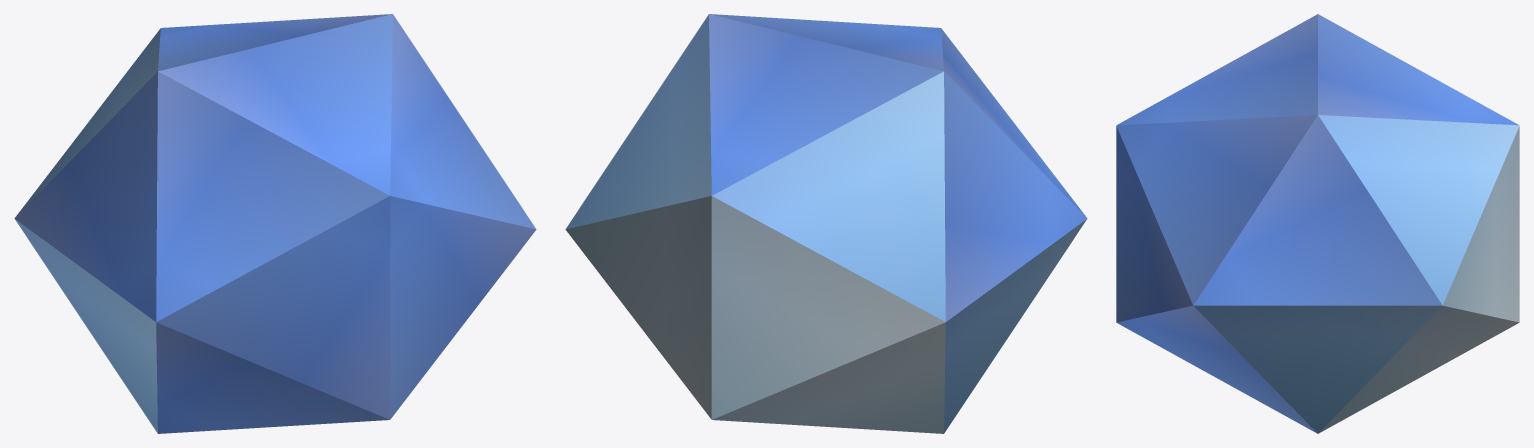
Rendered from gem06.fbx.
The picture shows the model from 3 angles, left to right: view 1: azimuth 30°, elevation 25°; view 2: azimuth 150°, elevation 25°; view 3: azimuth 270°, elevation 25°; orthographic projection. The views are drawn at different scales.
Parts seen in each view (by area): view 1: gem06; view 2: gem06; view 3: gem06.
Part boxes in pixels (left/top/right/bottom): gem06: left=14, top=14, right=536, bottom=433; gem06: left=565, top=14, right=1087, bottom=433; gem06: left=1116, top=14, right=1519, bottom=433.
Bounding box in the file's own units: 75.21 × 68.51 × 78.55.
